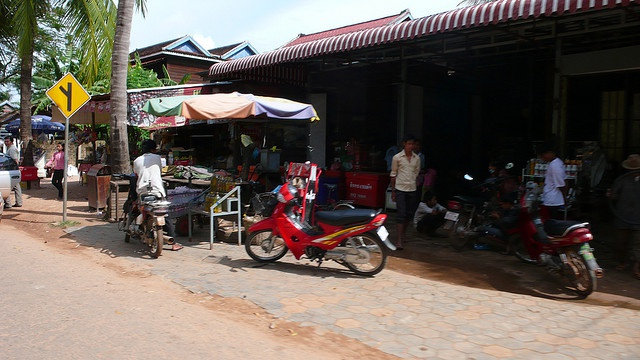non-vehicle: (245, 174, 397, 276), (504, 177, 604, 295), (444, 161, 514, 250), (111, 168, 176, 257)
